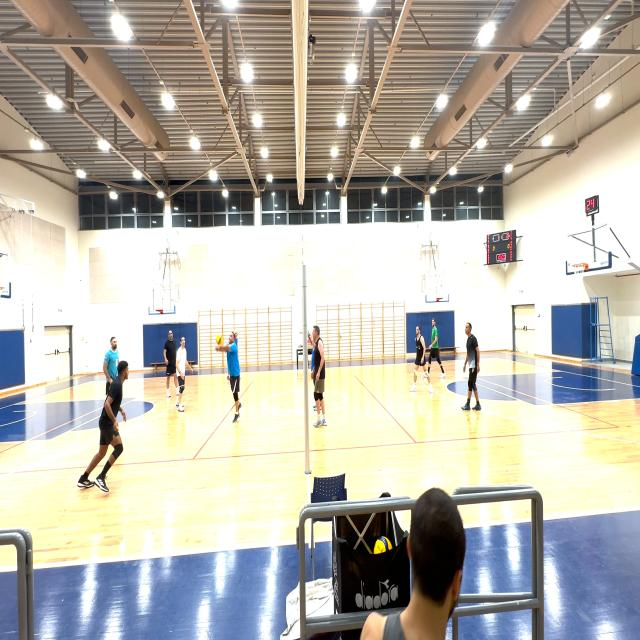volleyball: (373, 536, 393, 555), (216, 334, 222, 345)
